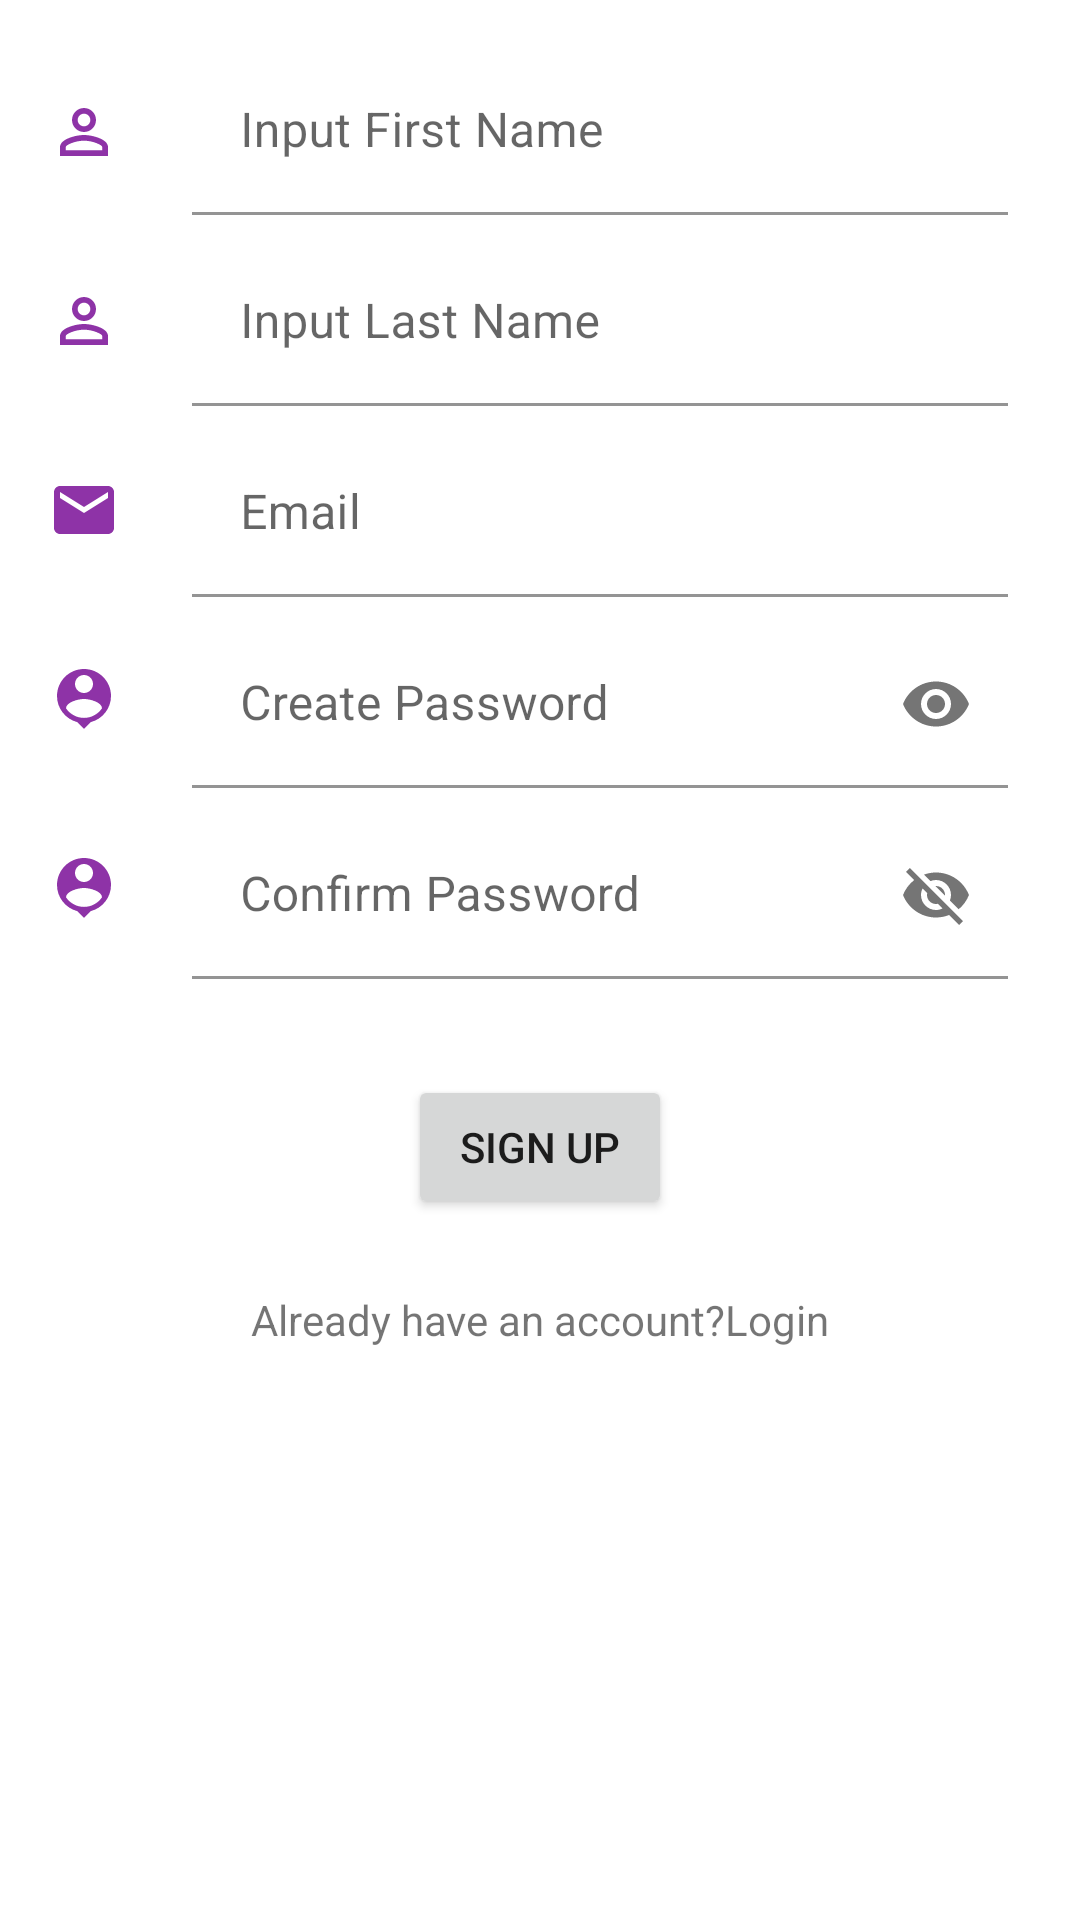

Locate icon controls on the screen. Image size 1080 × 1920, boxes as box=[x1, y1, x2, y2].
person: box=[60, 108, 108, 156], box=[60, 297, 108, 345]
person pin: box=[57, 669, 111, 729], box=[57, 858, 111, 918]
